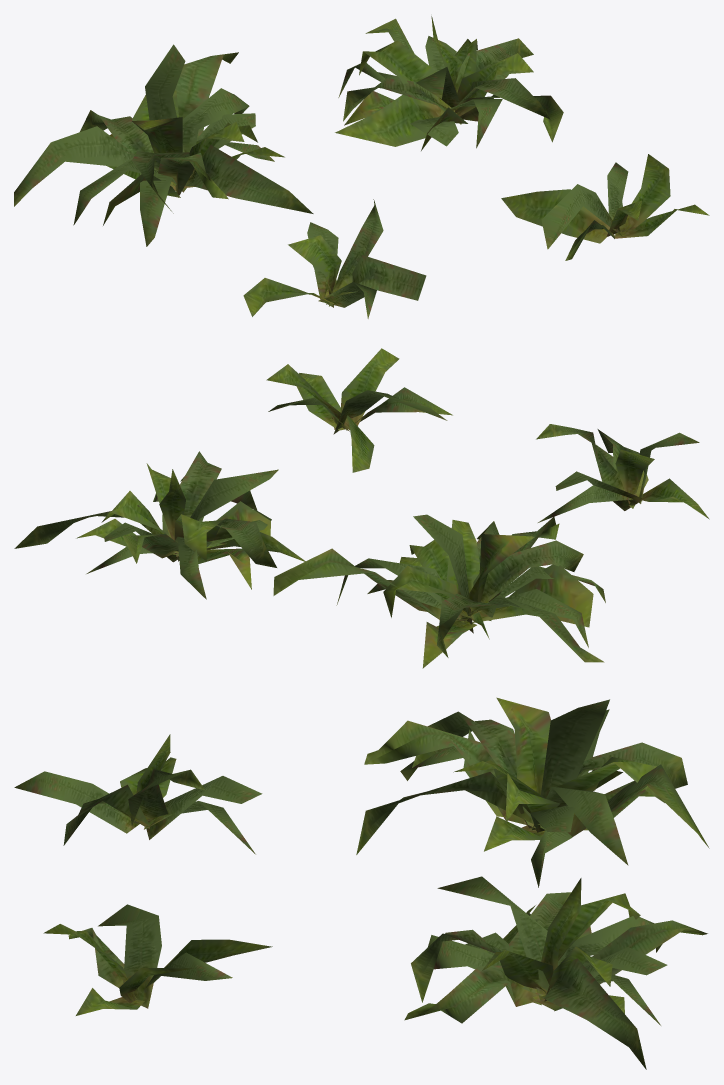
File: fern.glb
3 views of the same model, one above another, from view 1: azimuth 30°, elevation 25°; view 2: azimuth 150°, elevation 25°; view 3: azimuth 270°, elevation 25° (orthographic). The views are drawn at different scales.
Visible parts, largest first — view 1: fern_02_b; view 2: fern_02_b; view 3: fern_02_b.
Boxes of the visible parts, x1=… form: fern_02_b: x1=14, y1=16, x2=709, y2=318; fern_02_b: x1=14, y1=348, x2=709, y2=668; fern_02_b: x1=14, y1=697, x2=709, y2=1069.
Size of the model in its own units: 1.96 by 0.4245 by 1.72.
1 material, 1 textured.
